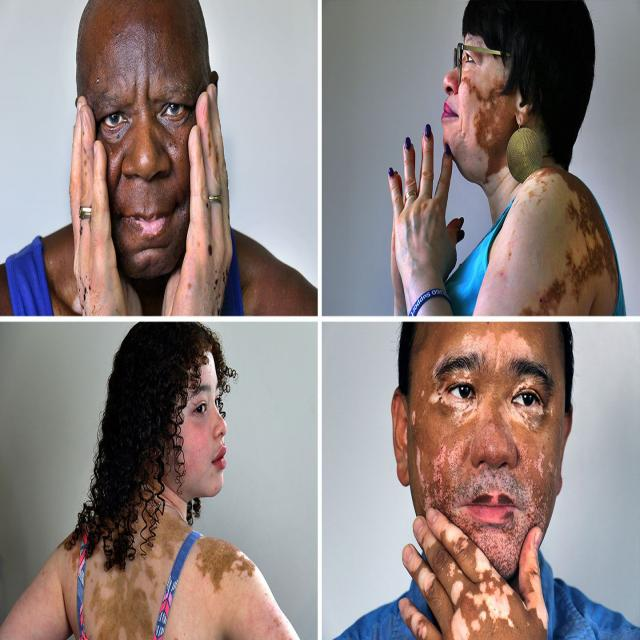vitiligo: (409, 329, 555, 640), (469, 83, 619, 317), (92, 494, 261, 638)
